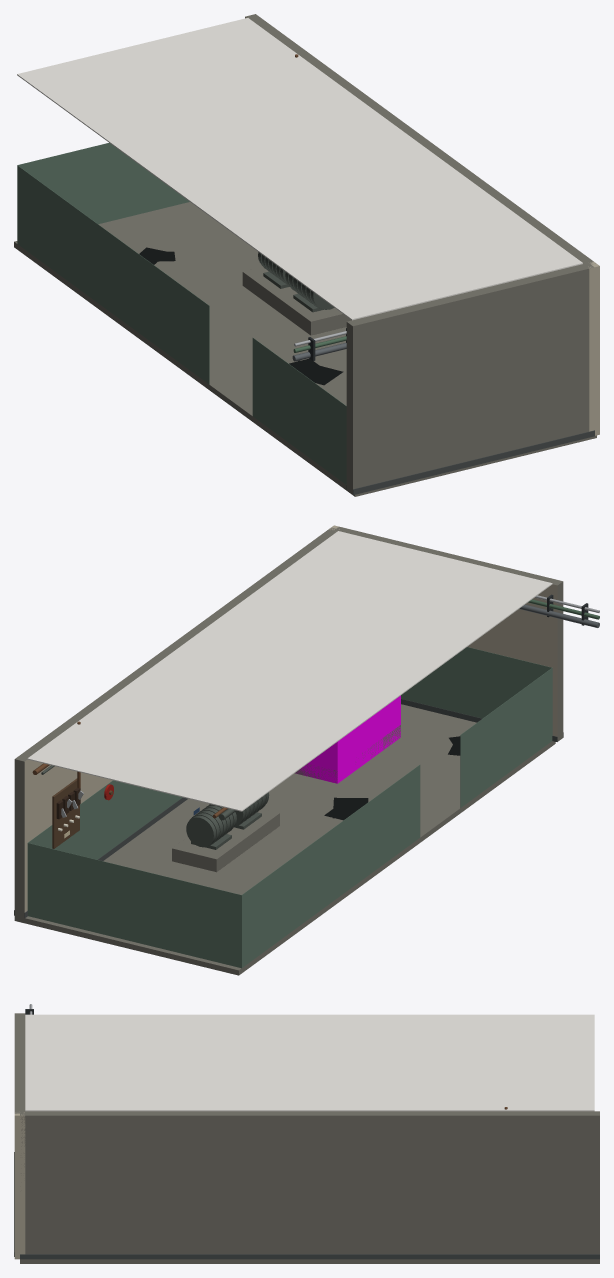
Rendered from ENV_W0_PlantRoom.glb.
The picture shows the model from 3 angles, top to bottom: view 1: azimuth 30°, elevation 25°; view 2: azimuth 150°, elevation 25°; view 3: azimuth 270°, elevation 25°; orthographic projection. The views are drawn at different scales.
Visible parts, largest first — view 1: ENV_W0_PlantRoom_Ceiling, ENV_W0_PlantRoom_Architecture, ENV_W0_PlantRoom_Dado, PROP_MotorGenerator_Set_Mesh, ENV_W0_PlantRoom_Posts, ENV_W0_PlantRoom_Water, PROP_Pipes_Wall_2m_Mesh; view 2: ENV_W0_PlantRoom_Ceiling, ENV_W0_PlantRoom_Dado, ENV_W0_PlantRoom_Architecture, PROP_MotorGenerator_Set_Mesh, PROP_MotorGenerator_Set_COL-colonly.001, PROP_Panel_Fuse_Historic_Mesh, PROP_Pipes_Wall_2m_Mesh, ENV_W0_PlantRoom_Water; view 3: ENV_W0_PlantRoom_Architecture, ENV_W0_PlantRoom_Ceiling, ENV_W0_PlantRoom_Posts.
Part boxes in pixels (x1=…): ENV_W0_PlantRoom_Ceiling: x1=17, y1=18, x2=582, y2=320; ENV_W0_PlantRoom_Architecture: x1=14, y1=14, x2=596, y2=496; ENV_W0_PlantRoom_Dado: x1=17, y1=143, x2=346, y2=484; PROP_MotorGenerator_Set_Mesh: x1=242, y1=252, x2=351, y2=335; ENV_W0_PlantRoom_Posts: x1=588, y1=261, x2=599, y2=435; ENV_W0_PlantRoom_Water: x1=139, y1=247, x2=343, y2=385; PROP_Pipes_Wall_2m_Mesh: x1=292, y1=328, x2=346, y2=361; ENV_W0_PlantRoom_Ceiling: x1=27, y1=531, x2=552, y2=811; ENV_W0_PlantRoom_Dado: x1=27, y1=647, x2=552, y2=968; ENV_W0_PlantRoom_Architecture: x1=14, y1=526, x2=563, y2=975; PROP_MotorGenerator_Set_Mesh: x1=172, y1=792, x2=279, y2=872; PROP_MotorGenerator_Set_COL-colonly.001: x1=295, y1=695, x2=400, y2=783; PROP_Panel_Fuse_Historic_Mesh: x1=52, y1=721, x2=83, y2=848; PROP_Pipes_Wall_2m_Mesh: x1=519, y1=594, x2=599, y2=627; ENV_W0_PlantRoom_Water: x1=324, y1=736, x2=460, y2=820; ENV_W0_PlantRoom_Architecture: x1=14, y1=1013, x2=599, y2=1263; ENV_W0_PlantRoom_Ceiling: x1=25, y1=1014, x2=594, y2=1111; ENV_W0_PlantRoom_Posts: x1=14, y1=1112, x2=25, y2=1259.
Size of what is drawn, in the model's own units: 5.51 by 3.15 by 11.11.
